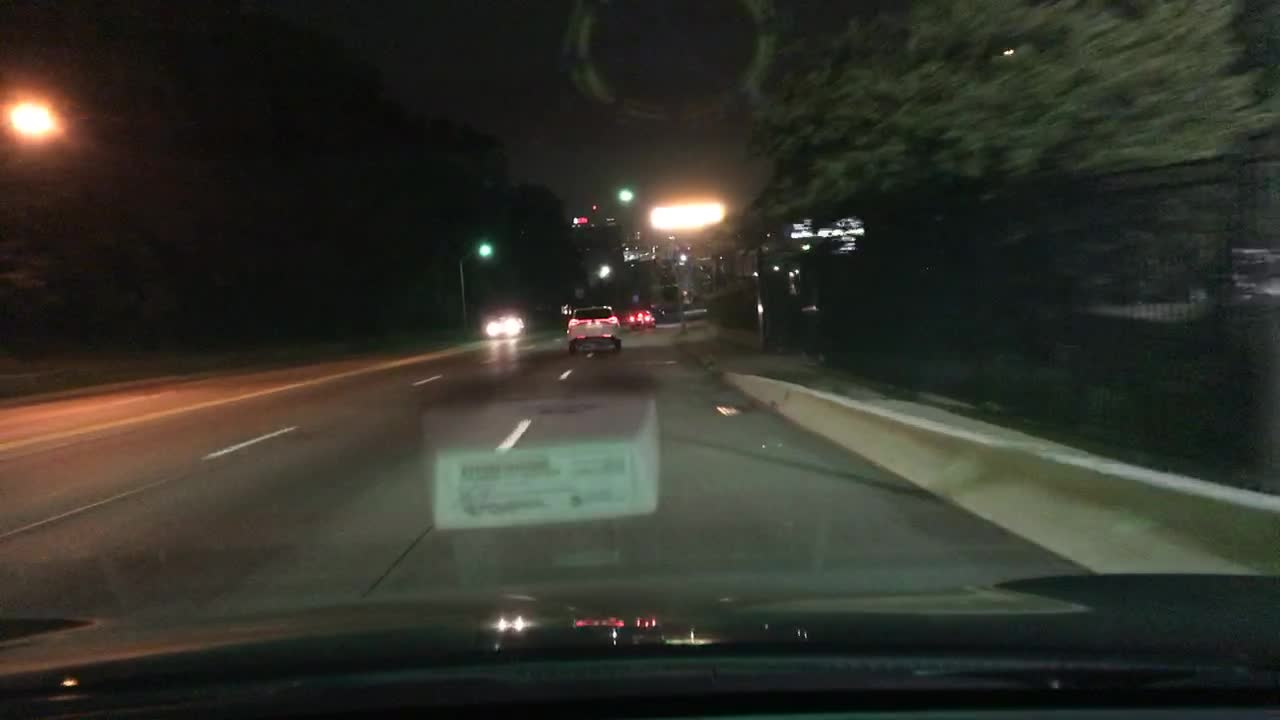car: (562, 306, 625, 357), (481, 311, 525, 339), (625, 308, 658, 331)
traffic light: (476, 240, 492, 261)
